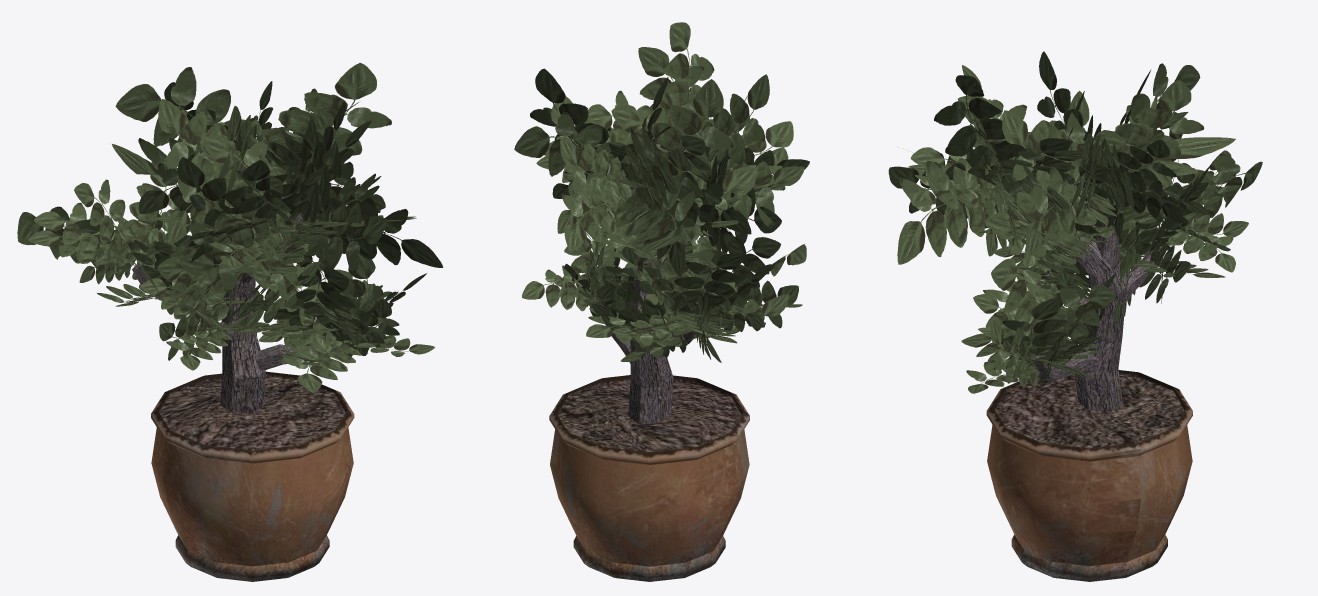
Rendered from plant2.glb.
The picture shows the model from 3 angles, left to right: view 1: azimuth 30°, elevation 25°; view 2: azimuth 150°, elevation 25°; view 3: azimuth 270°, elevation 25°; orthographic projection. The views are drawn at different scales.
Size of the model in its own units: 1.43 by 1.96 by 1.53.
Materials: 3 (3 with a texture image).
